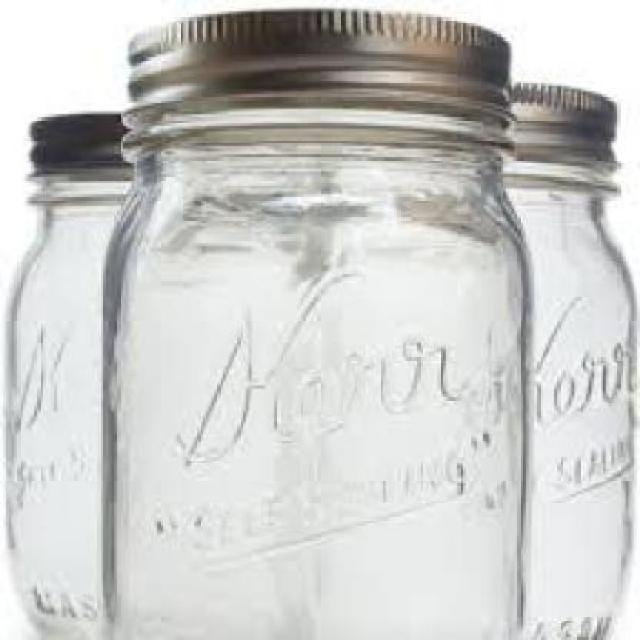kaca: (100, 103, 529, 637), (500, 154, 631, 637), (6, 169, 129, 637)
